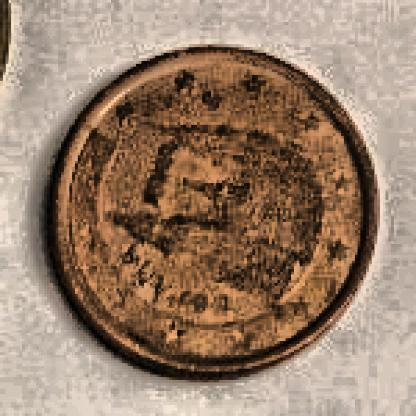coin: (46, 44, 382, 382)
